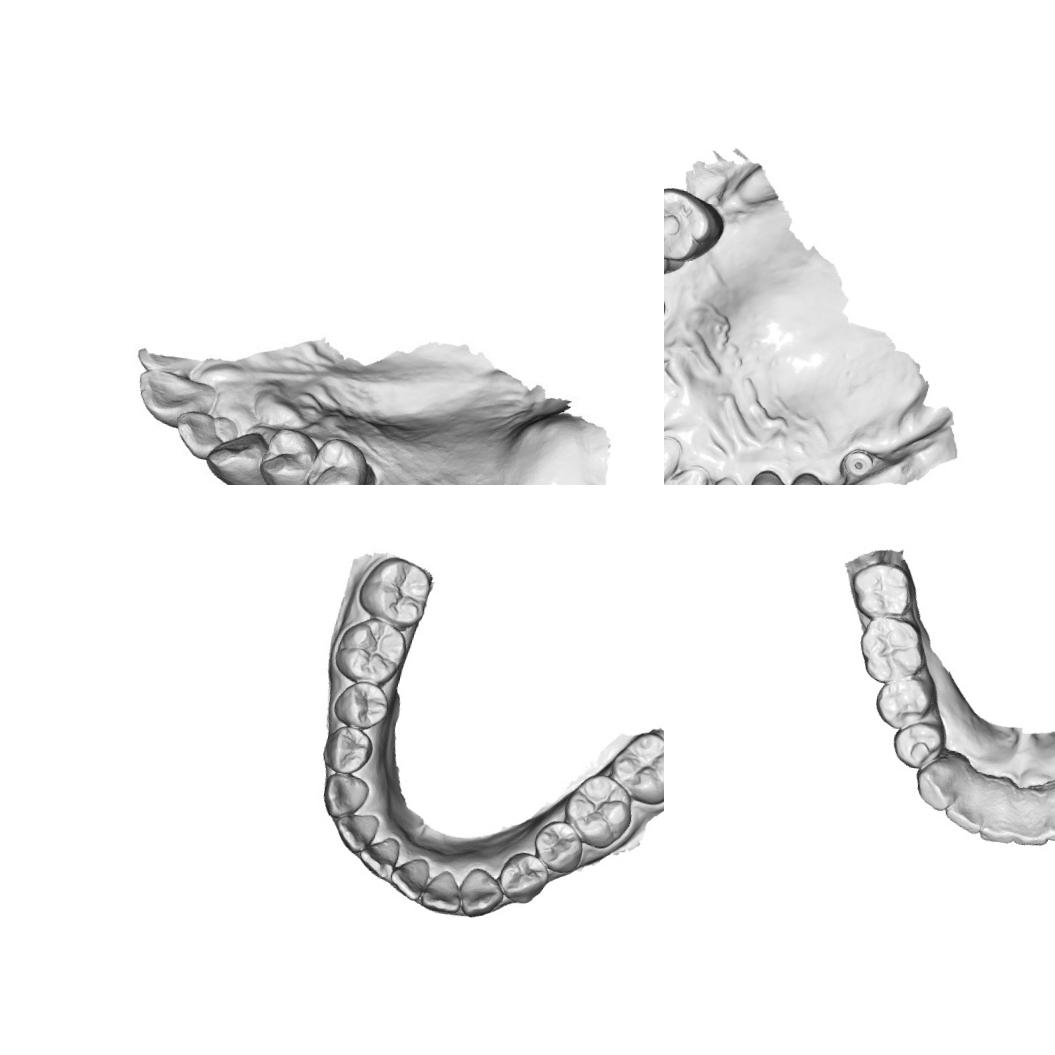canine: (204, 425, 271, 485), (910, 750, 964, 814), (454, 865, 507, 922), (318, 769, 371, 824), (693, 471, 751, 485)
implant: (841, 446, 876, 481)
incisor: (129, 364, 218, 432), (171, 406, 229, 464), (942, 770, 990, 836), (978, 779, 1022, 845), (330, 809, 381, 857), (418, 866, 466, 916), (356, 832, 402, 882), (1010, 798, 1054, 850), (388, 853, 432, 903), (664, 459, 713, 485), (664, 428, 684, 485), (1041, 798, 1055, 846)
molar: (353, 550, 436, 634), (558, 768, 639, 853), (331, 612, 411, 690), (854, 612, 930, 690), (664, 180, 729, 267), (846, 555, 918, 626), (604, 726, 664, 810)
premolar: (870, 670, 936, 736), (301, 432, 383, 485), (257, 421, 319, 485), (888, 714, 948, 774), (330, 677, 392, 734), (530, 816, 587, 876), (496, 848, 552, 907), (320, 722, 376, 778), (664, 232, 687, 292), (740, 466, 798, 485), (781, 468, 837, 485)
